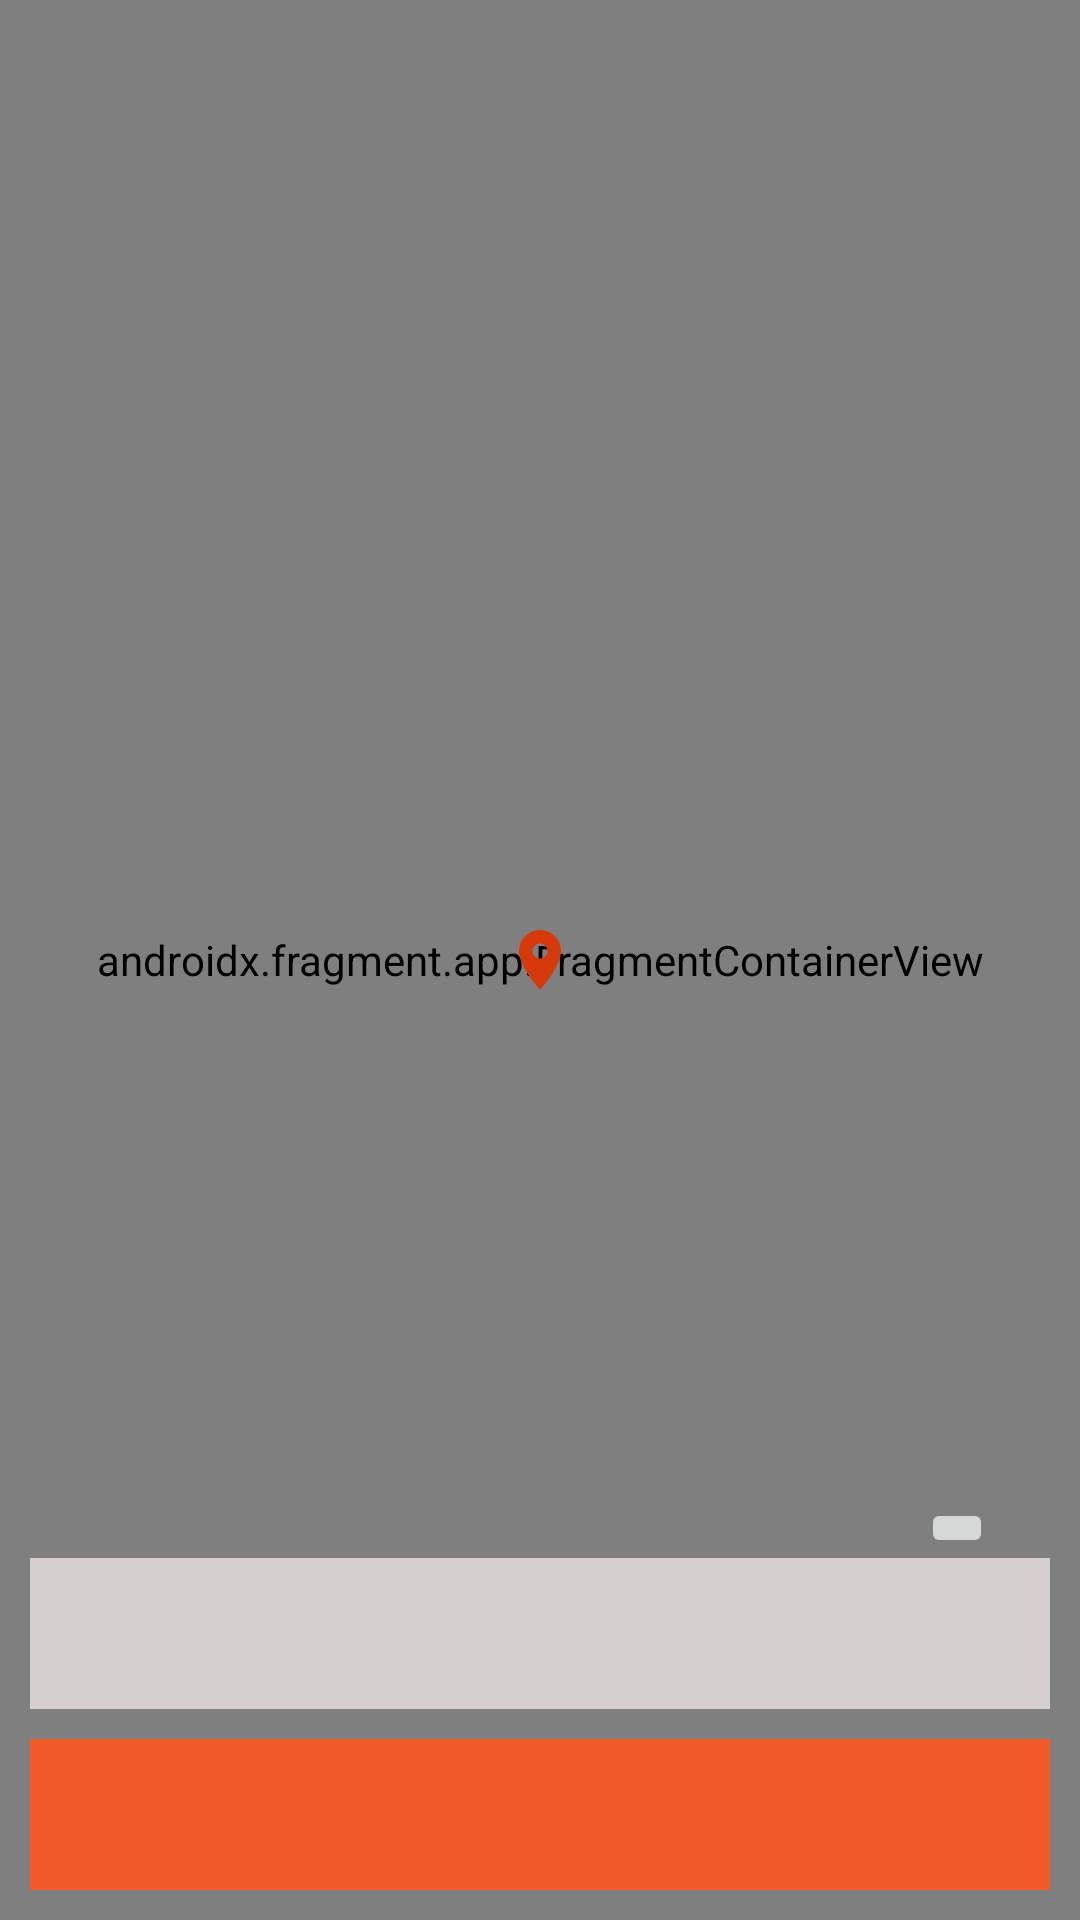

Point at icon controls on the screen. Image size 1080*1920, points as (x=x, y=y).
location on: (x=537, y=960)
